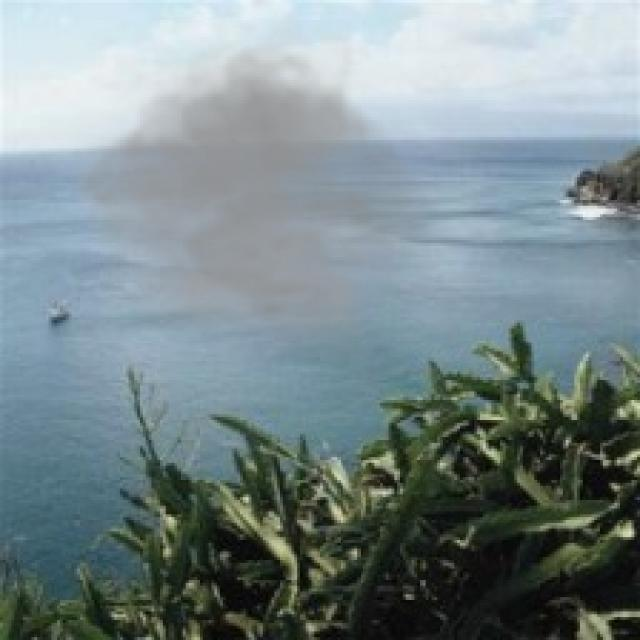Smoke: (59, 9, 454, 358)
